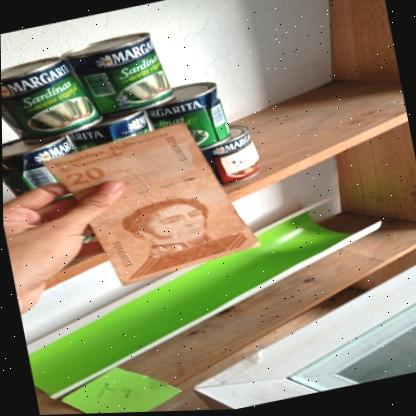twenty-front-vef: (39, 111, 263, 300)
